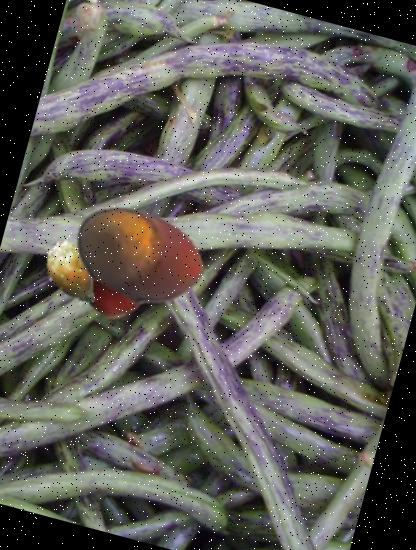Cactus: (30, 232, 115, 318)
Hazelnut: (57, 172, 221, 336)
Nectarine: (82, 260, 150, 328)
